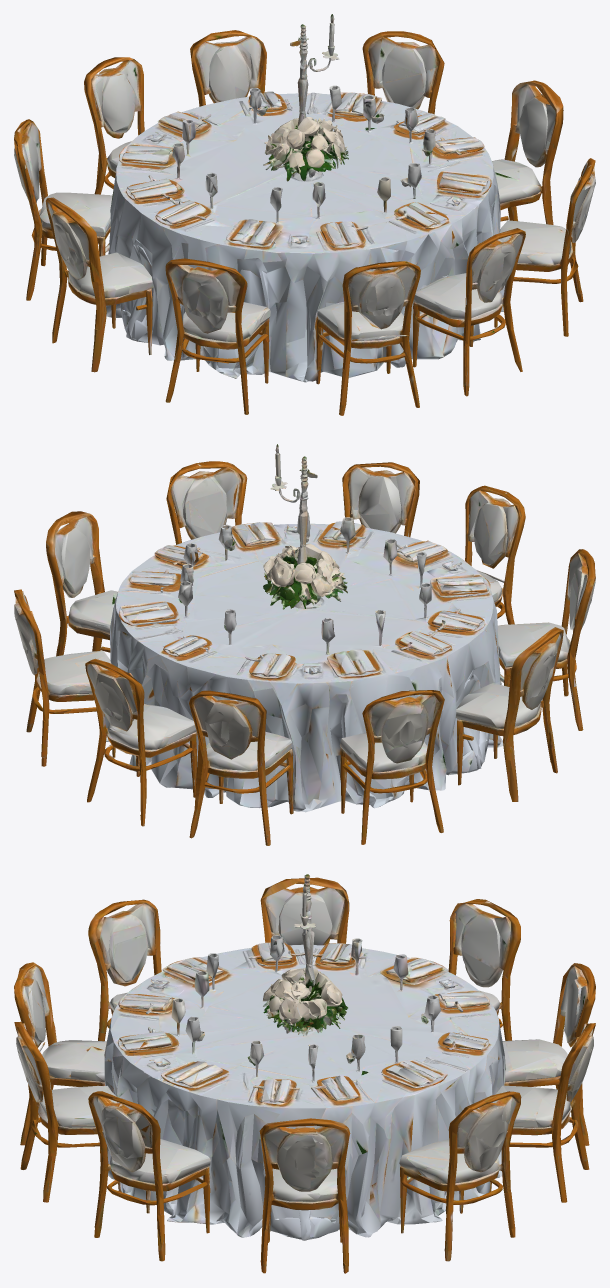
Rendered from patronTable-medio.glb.
3 views of the same model, one above another, from view 1: azimuth 30°, elevation 25°; view 2: azimuth 150°, elevation 25°; view 3: azimuth 270°, elevation 25° (orthographic). The views are drawn at different scales.
Size of the model in its own units: 1.9 by 1.03 by 1.9.
1 material, 1 textured.
